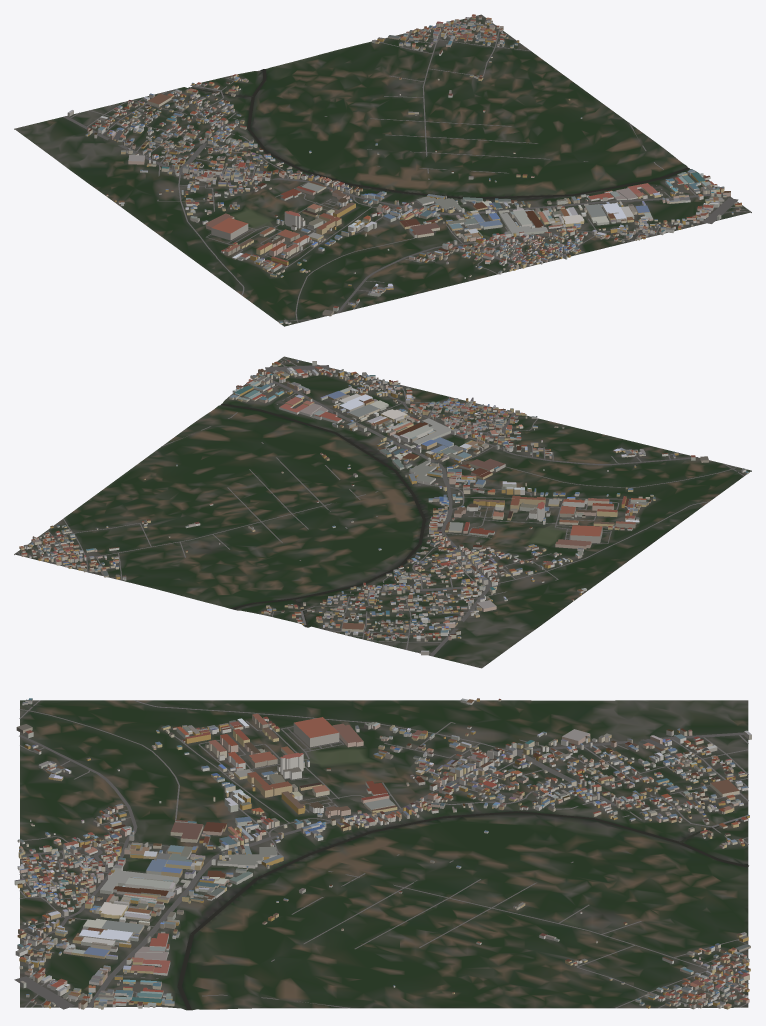
3 views of the same model, one above another, from view 1: azimuth 30°, elevation 25°; view 2: azimuth 150°, elevation 25°; view 3: azimuth 270°, elevation 25° (orthographic). The views are drawn at different scales.
Visible parts, largest first — view 1: ground, buildings, roads, water; view 2: ground, buildings, roads, water; view 3: ground, buildings, roads, water.
Boxes of the visible parts, x1,y1,x2,y2 form: ground: (14,14,751,326); buildings: (67,14,741,324); roads: (63,16,749,322); water: (188,69,689,198); ground: (14,356,751,668); buildings: (19,360,748,655); roads: (17,357,744,656); water: (221,403,425,627); ground: (20,700,748,1010); buildings: (14,698,751,1009); roads: (14,700,748,1009); water: (177,811,748,1010).
Bounding box in the file's own units: 1412 × 43.51 × 1420.
